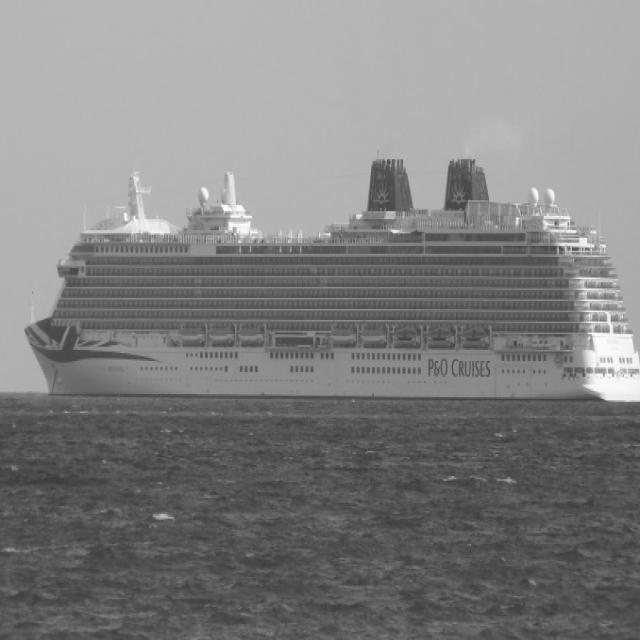cruises: (22, 154, 640, 414)
